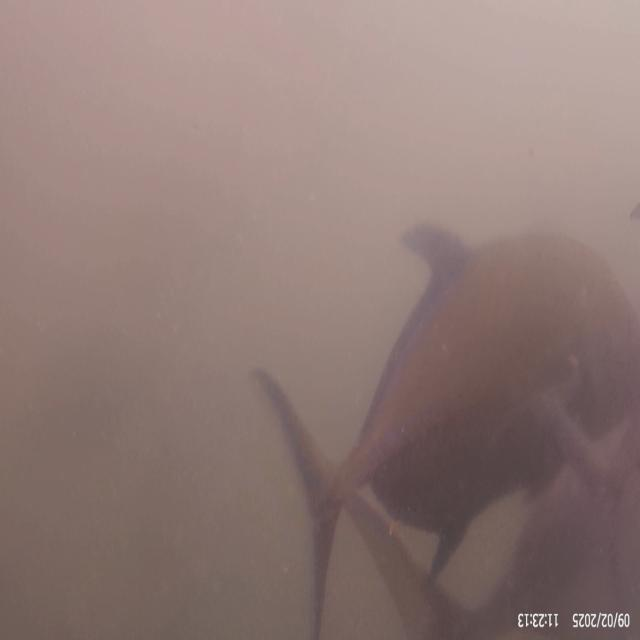ikan: (235, 204, 631, 548)
